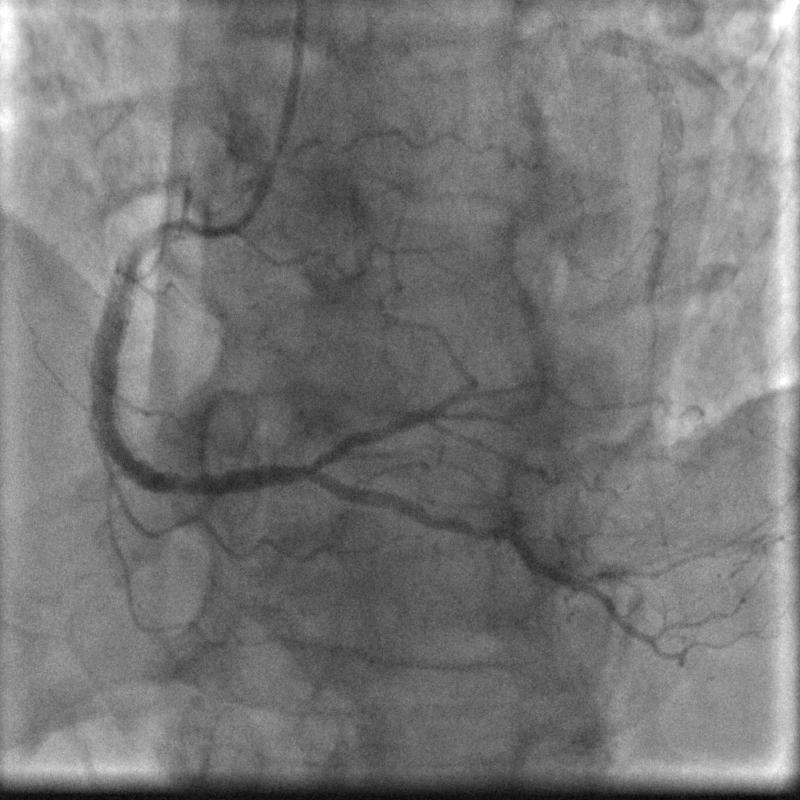Stenosis: (134, 209, 194, 255)
